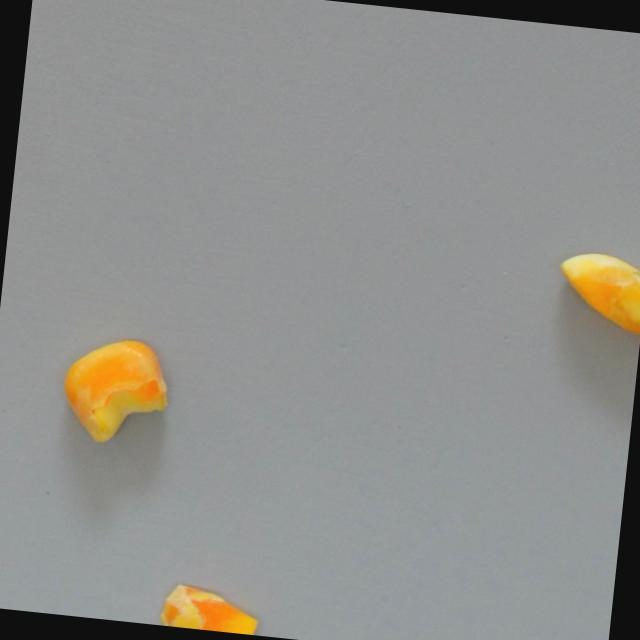pelicula: (55, 331, 177, 451), (553, 248, 640, 334), (158, 577, 263, 635)
